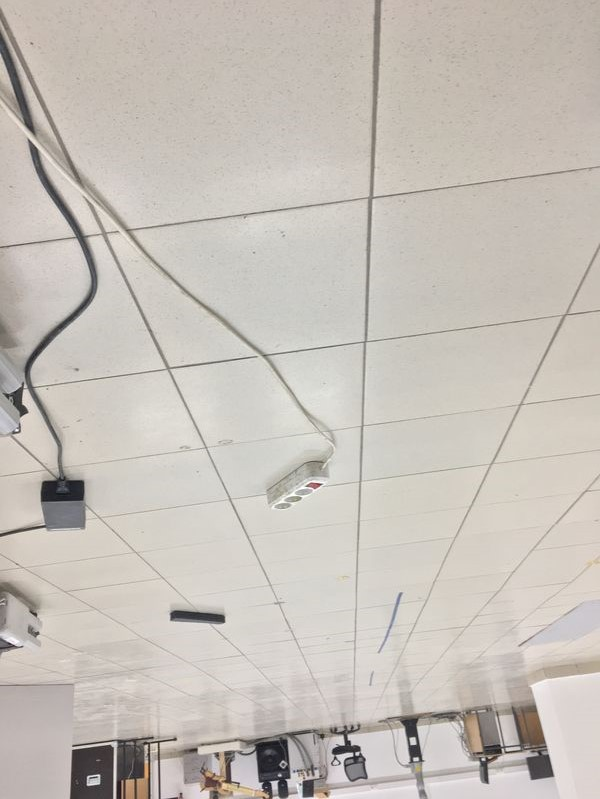socket: (261, 455, 330, 517)
